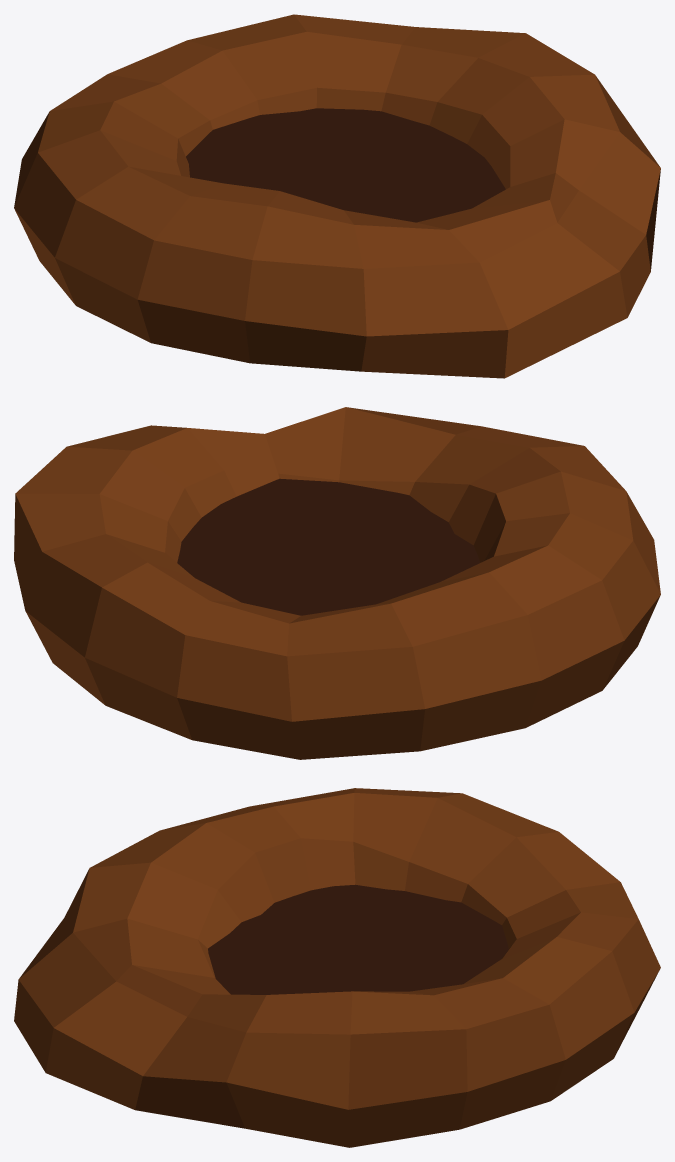
The model's file is hole.fbx.
The picture shows the model from 3 angles, top to bottom: view 1: azimuth 30°, elevation 25°; view 2: azimuth 150°, elevation 25°; view 3: azimuth 270°, elevation 25°; orthographic projection. The views are drawn at different scales.
Parts seen in each view (by area): view 1: Torus.001, Plane; view 2: Torus.001, Plane; view 3: Torus.001, Plane.
Boxes of the visible parts, x1,y1,x2,y2 form: Torus.001: (14,14,660,378); Plane: (186,108,505,222); Torus.001: (14,407,660,759); Plane: (177,478,479,615); Torus.001: (14,788,660,1147); Plane: (208,884,508,994).
Size of the model in its own units: 155 by 41.83 by 159.
